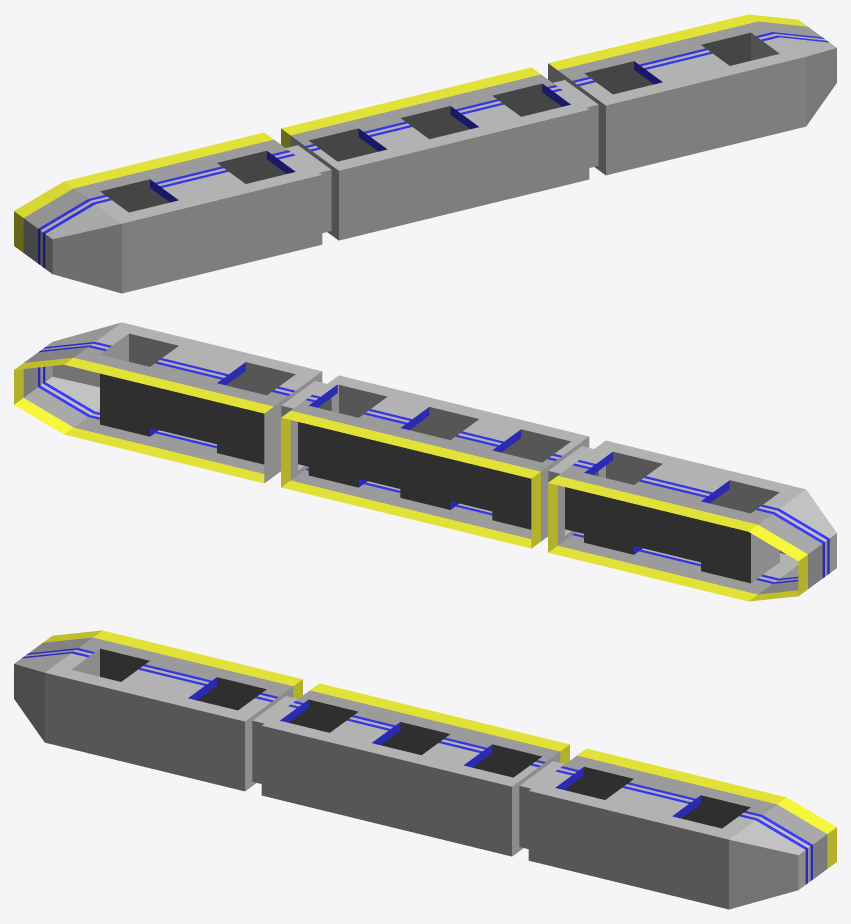
The model's file is train.obj.
The picture shows the model from 3 angles, top to bottom: view 1: azimuth 30°, elevation 25°; view 2: azimuth 150°, elevation 25°; view 3: azimuth 330°, elevation 25°; orthographic projection.
Visible parts, largest first — view 1: obj1, obj45, obj68, obj36, obj110, obj62, obj49, obj55, obj134, obj4, obj135, obj136 (+12 smaller); view 2: obj36, obj110, obj49, obj55, obj1, obj134, obj87, obj4, obj135, obj136, obj3, obj72 (+25 smaller); view 3: obj1, obj45, obj68, obj36, obj110, obj39, obj49, obj55, obj134, obj4, obj136, obj135 (+12 smaller).
Boxes of the visible parts, bbox=[...] form: obj1: bbox=[339, 110, 589, 240]; obj45: bbox=[606, 57, 806, 175]; obj68: bbox=[122, 175, 322, 293]; obj36: bbox=[100, 32, 750, 212]; obj110: bbox=[313, 90, 588, 170]; obj62: bbox=[52, 223, 121, 293]; obj49: bbox=[579, 37, 805, 105]; obj55: bbox=[96, 155, 321, 223]; obj134: bbox=[291, 74, 554, 145]; obj4: bbox=[281, 67, 540, 135]; obj135: bbox=[558, 21, 771, 80]; obj136: bbox=[74, 139, 287, 198]; obj36: bbox=[100, 373, 750, 583]; obj110: bbox=[312, 375, 588, 455]; obj49: bbox=[95, 322, 321, 390]; obj55: bbox=[580, 440, 805, 508]; obj1: bbox=[339, 385, 570, 462]; obj134: bbox=[291, 400, 554, 471]; obj87: bbox=[291, 470, 531, 538]; obj4: bbox=[281, 410, 540, 478]; obj135: bbox=[74, 347, 287, 406]; obj136: bbox=[558, 465, 771, 524]; obj3: bbox=[281, 480, 531, 548]; obj72: bbox=[558, 535, 771, 594]; obj1: bbox=[261, 726, 511, 856]; obj45: bbox=[528, 791, 728, 909]; obj68: bbox=[44, 673, 244, 791]; obj36: bbox=[100, 648, 750, 828]; obj110: bbox=[262, 706, 537, 786]; obj39: bbox=[729, 839, 798, 909]; obj49: bbox=[529, 771, 754, 839]; obj55: bbox=[45, 653, 271, 721]; obj134: bbox=[296, 690, 559, 761]; obj4: bbox=[310, 683, 569, 751]; obj136: bbox=[79, 637, 292, 696]; obj135: bbox=[563, 755, 776, 814].
Bounding box in the file's own units: 47 × 4 × 6.
